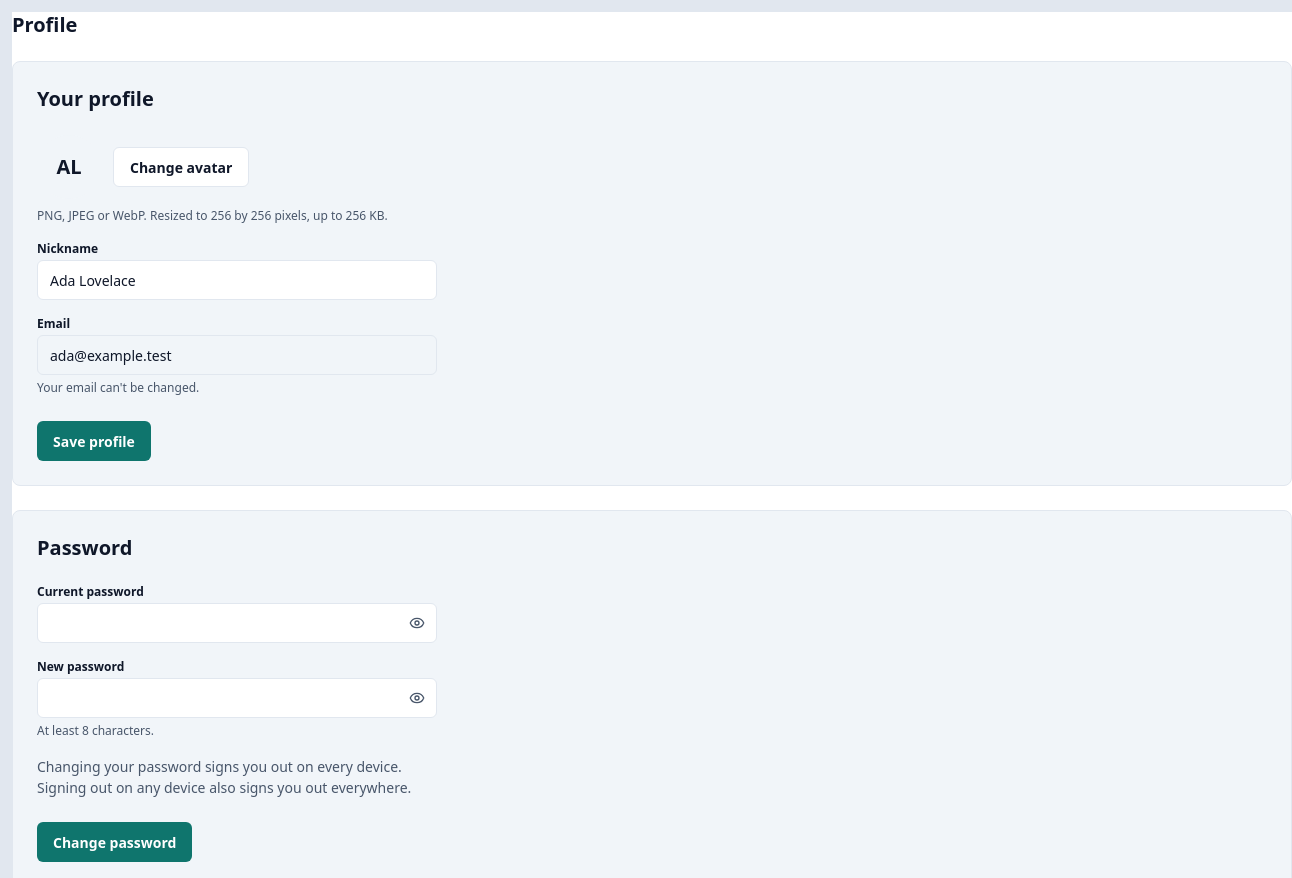
Test: profile page (UI-34) › shows a failed save in the form alert, shows no request-error toast and keeps the edit
Type "2" into the field labelled "Nickname" at (237, 280), box left=37, top=260, right=437, bottom=300
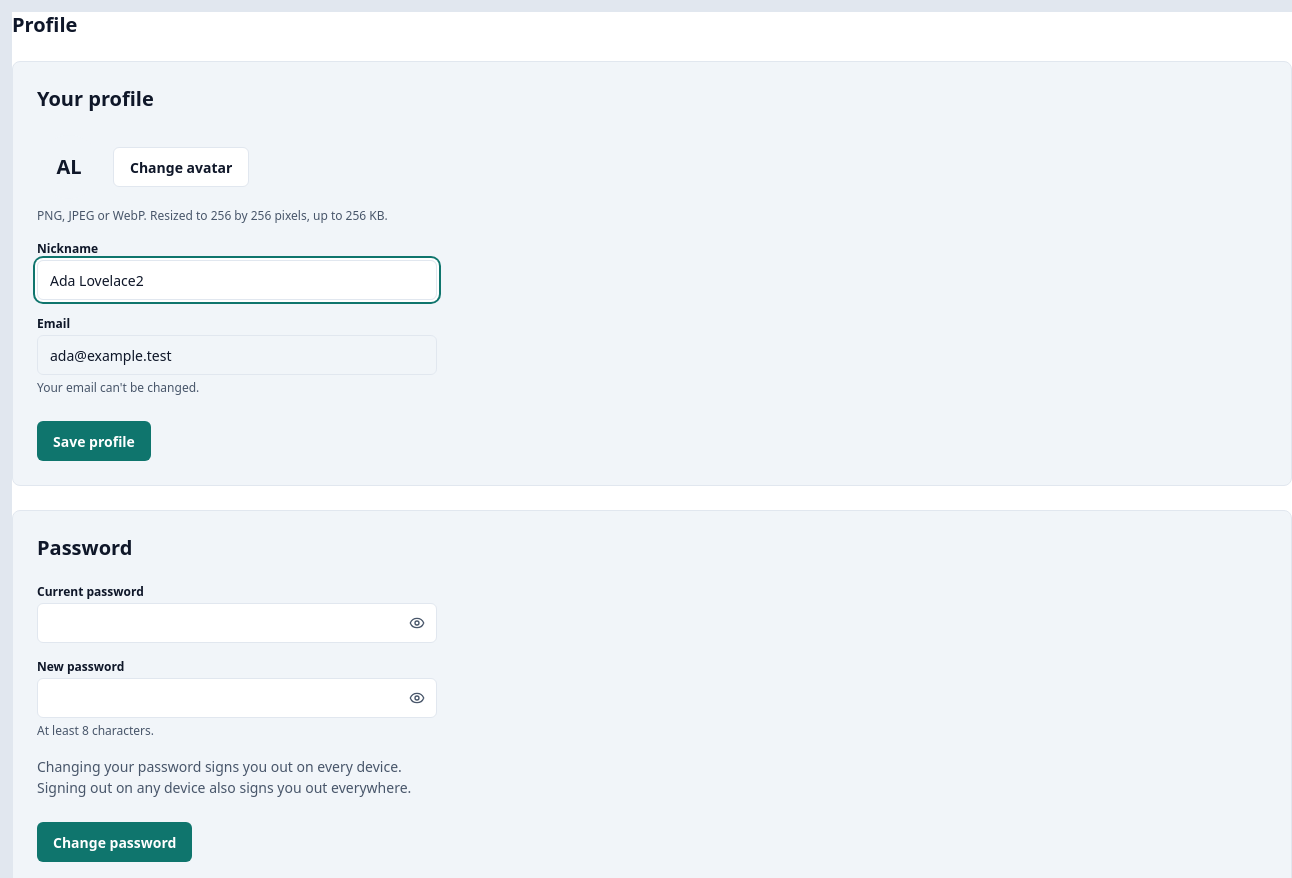
Click the button "Save profile" at (94, 441), box left=37, top=421, right=151, bottom=461
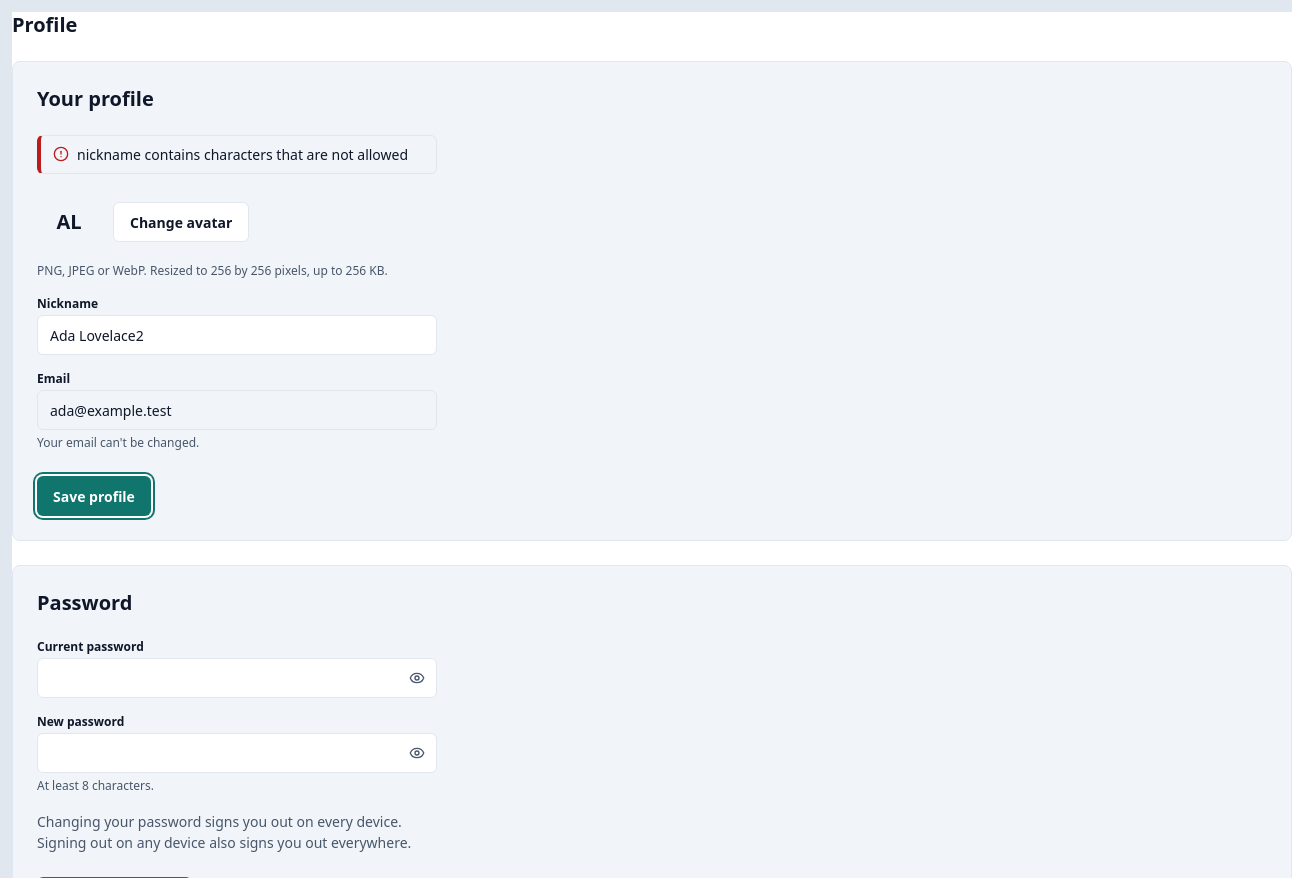
Now the field labelled "Nickname" holds "Ada Lovelace2", box left=37, top=315, right=437, bottom=355
Now the message with test id "alert-form-error" reads "nickname contains characters that are not allowed", box left=77, top=145, right=408, bottom=164
